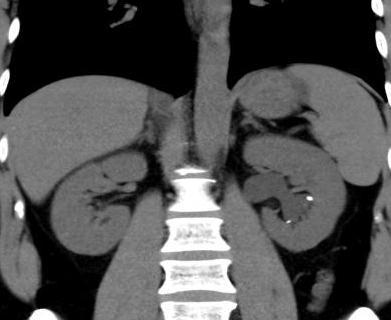Tas_Var: (305, 195, 315, 203), (285, 219, 293, 225)
